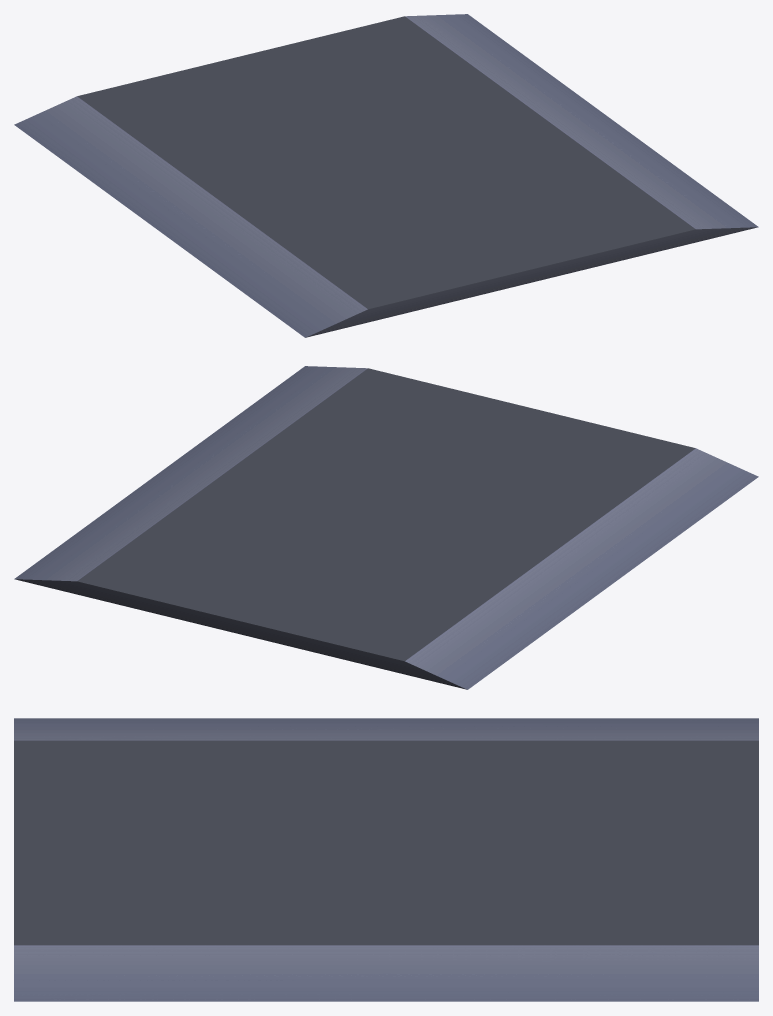
The picture shows the model from 3 angles, top to bottom: view 1: azimuth 30°, elevation 25°; view 2: azimuth 150°, elevation 25°; view 3: azimuth 270°, elevation 25°; orthographic projection. The views are drawn at different scales.
Visible parts, largest first — view 1: driveway-long; view 2: driveway-long; view 3: driveway-long.
Boxes of the visible parts, x1,y1,x2,y2 form: driveway-long: (14, 14, 758, 337); driveway-long: (14, 366, 758, 689); driveway-long: (14, 718, 758, 1001).
Size of the model in its own units: 3.24 by 0.09 by 3.6.
Materials: 1 (1 with a texture image).
